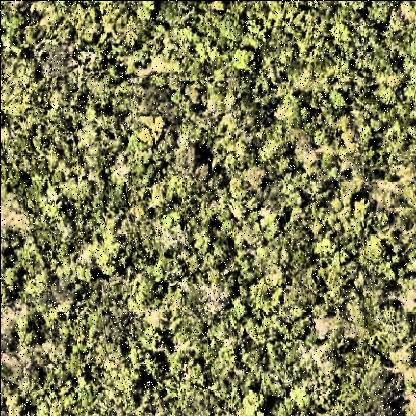tree-top: (316, 361, 401, 416), (124, 330, 173, 386), (230, 48, 259, 75)
